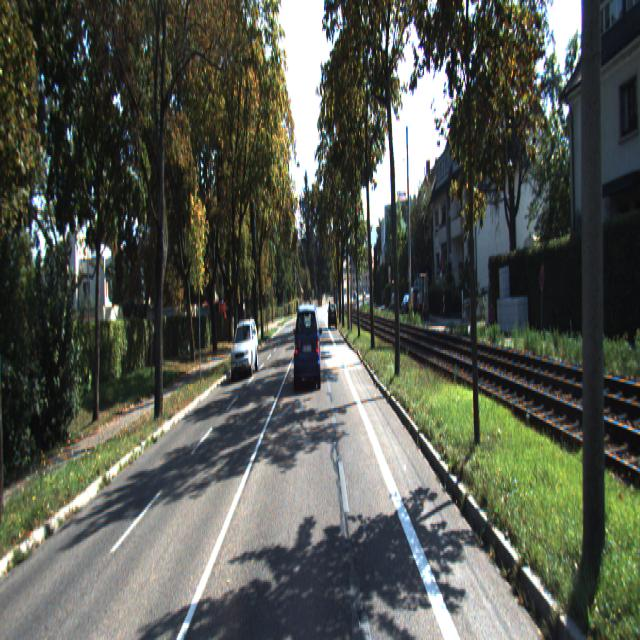Car: (293, 303, 322, 393), (230, 317, 259, 378), (328, 299, 338, 327)
